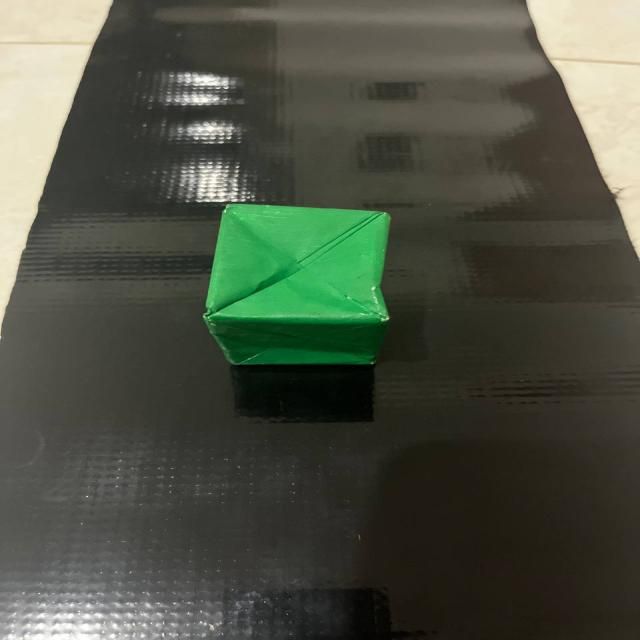Verde: (187, 187, 409, 391)
